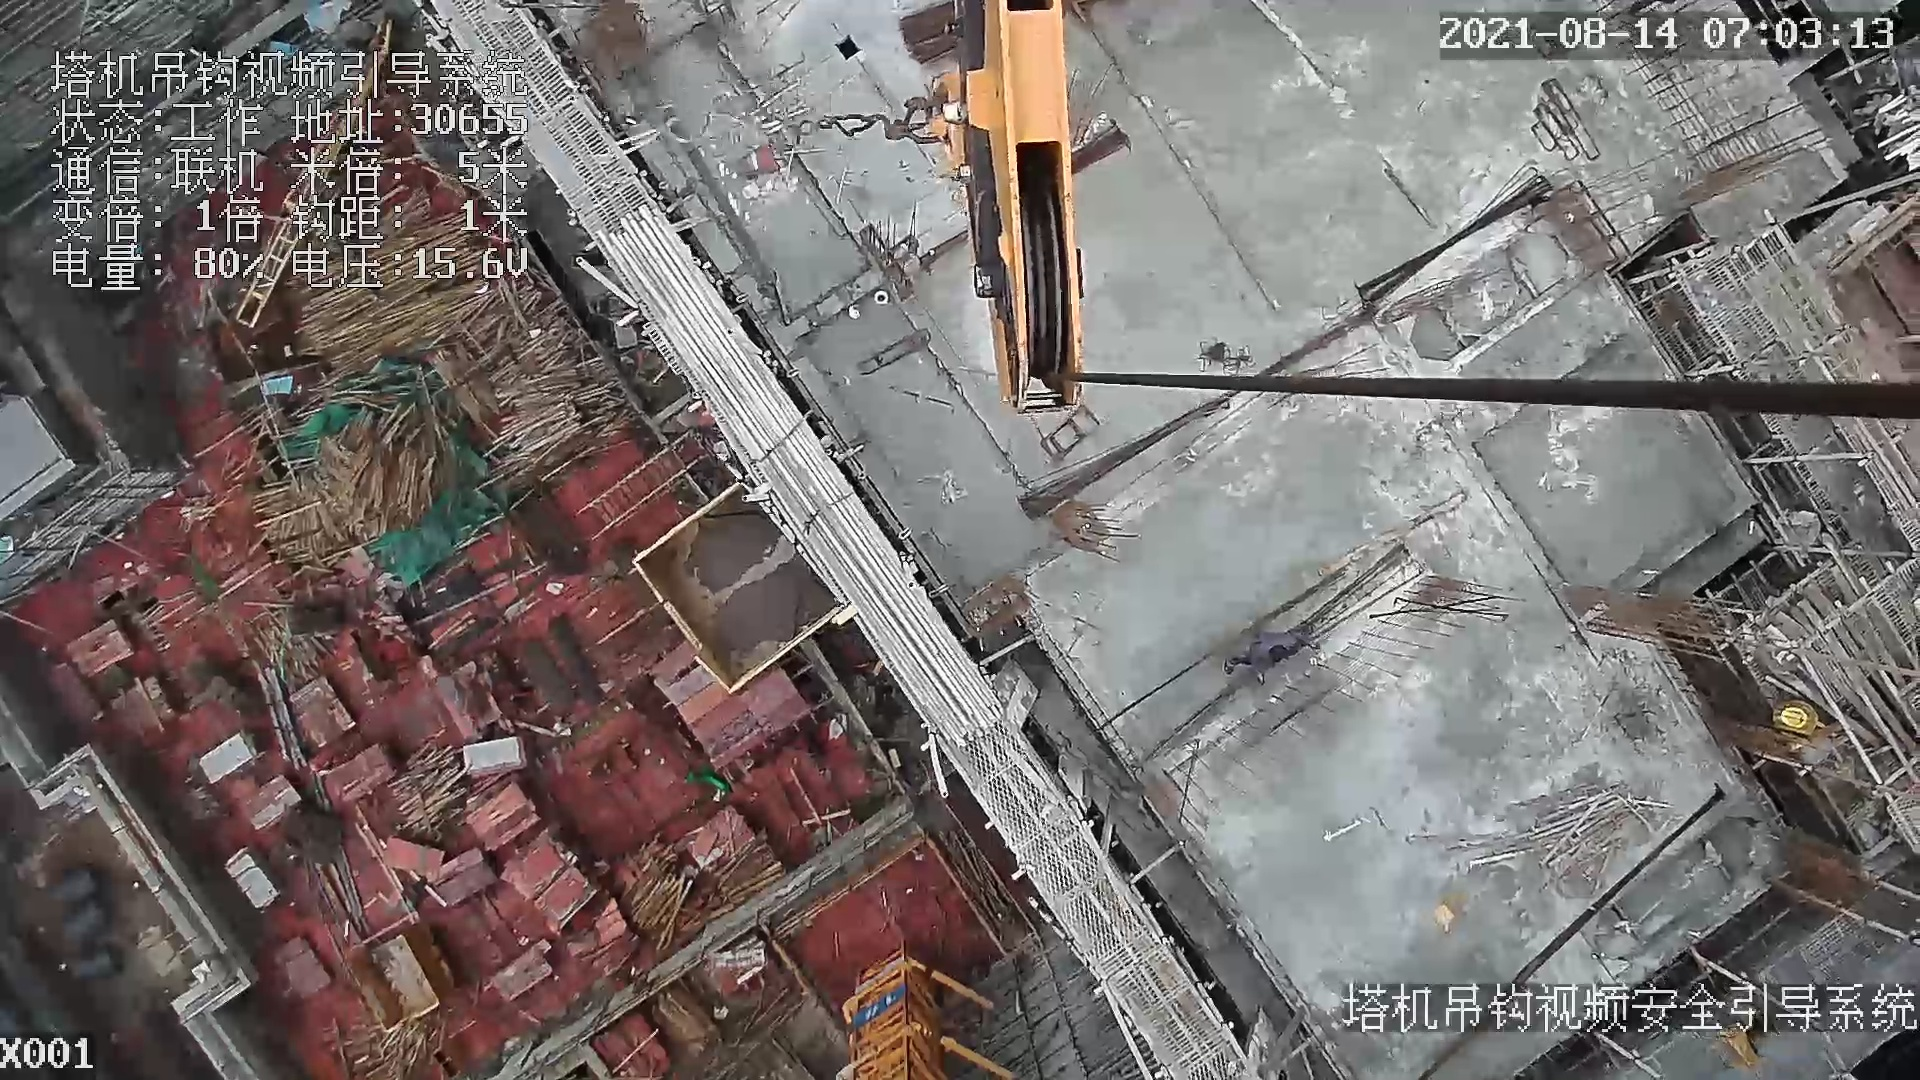hook: (922, 1, 1094, 421)
person: (1218, 633, 1319, 685)
slogan: (847, 983, 910, 1029)
